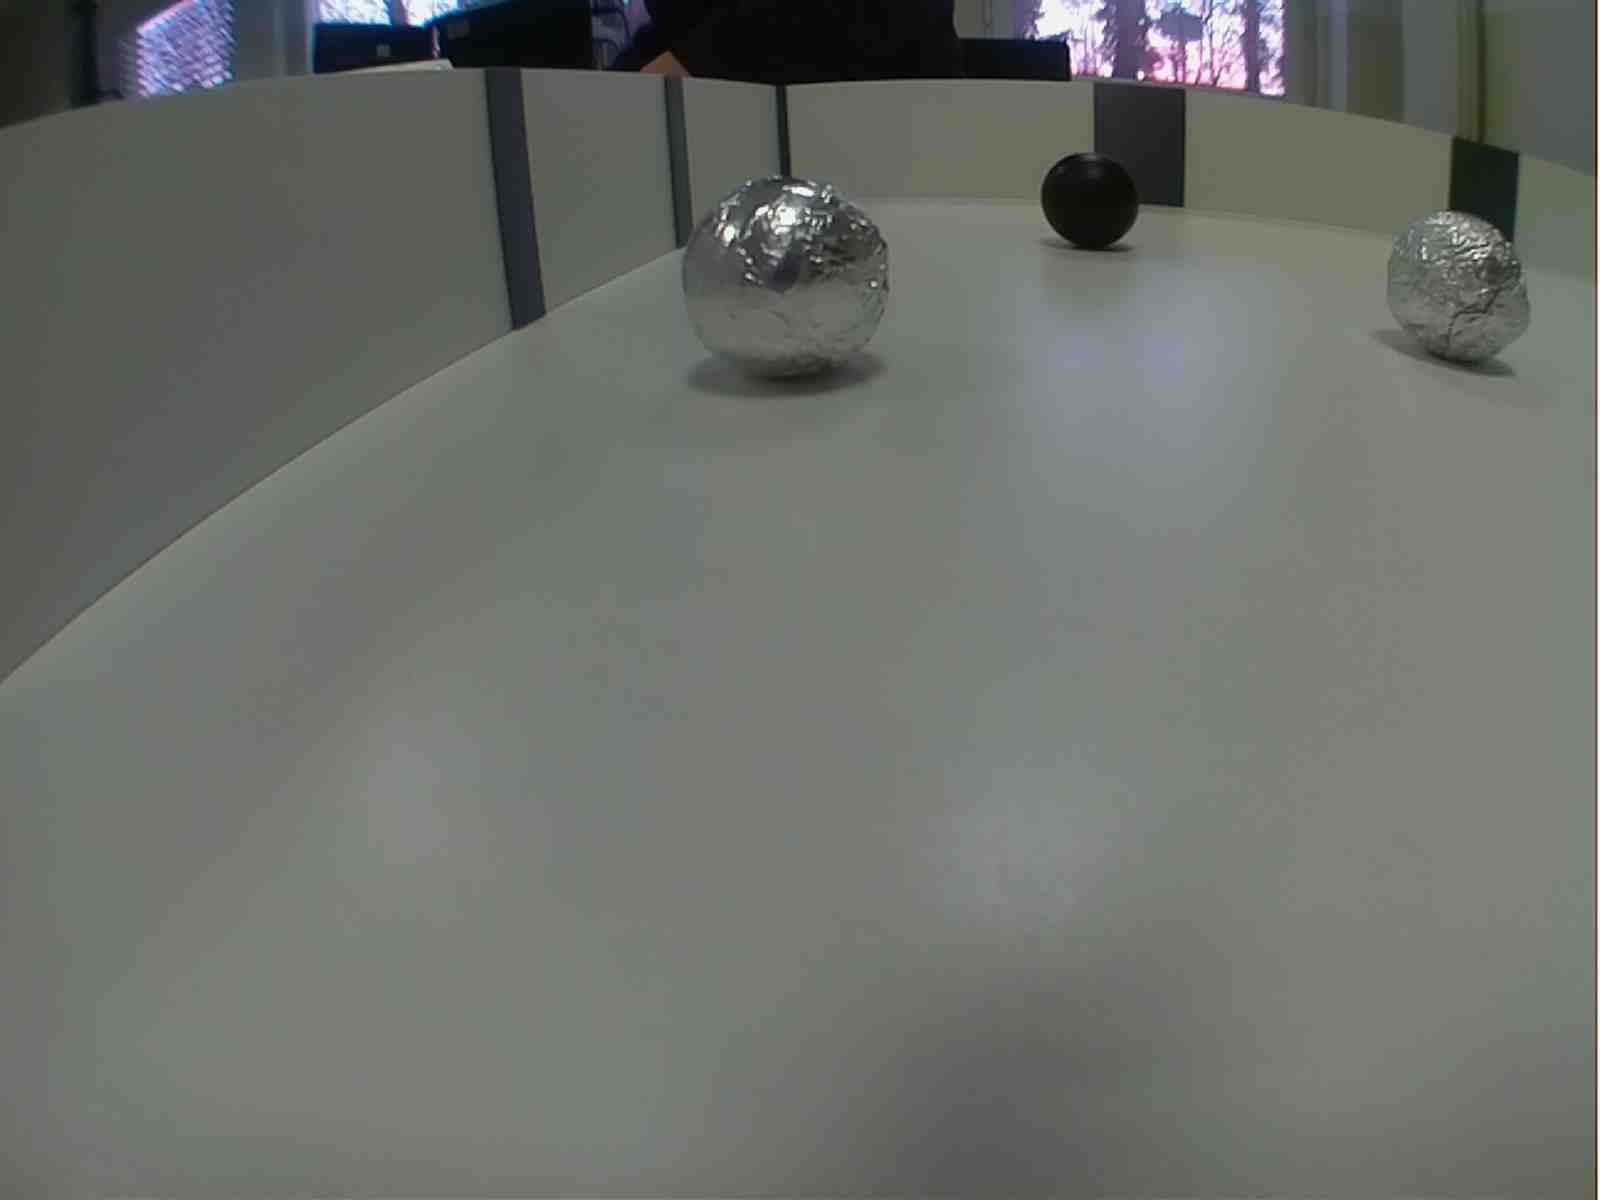bianca: (685, 169, 901, 384), (1380, 212, 1534, 368)
nera: (1036, 147, 1144, 256)
